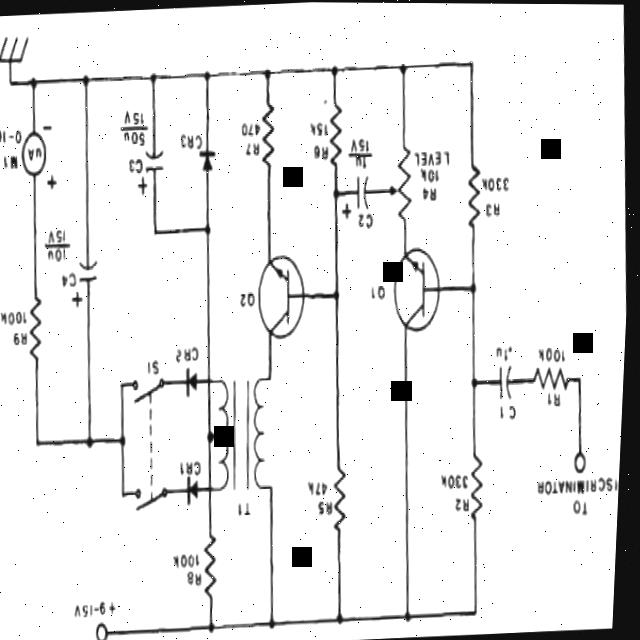capacitor: (73, 240, 111, 312), (495, 351, 526, 416), (349, 170, 384, 227), (141, 142, 176, 186)
diode: (195, 140, 223, 183), (184, 364, 208, 409), (187, 471, 207, 514)
ground: (0, 28, 34, 72)
inductor: (201, 365, 248, 504), (241, 364, 285, 505)
node: (120, 427, 135, 455), (147, 66, 163, 91), (79, 70, 93, 95), (212, 616, 226, 640), (27, 74, 42, 95), (333, 285, 347, 306), (407, 607, 420, 628), (399, 59, 411, 81), (472, 275, 481, 302), (89, 434, 101, 454), (203, 69, 215, 89), (331, 62, 342, 83), (204, 221, 216, 239), (334, 184, 344, 205), (273, 614, 283, 634), (264, 66, 275, 84), (341, 613, 352, 631), (473, 376, 483, 390)
resistor: (251, 95, 291, 184), (389, 138, 426, 224), (331, 456, 363, 550), (465, 451, 496, 536), (323, 99, 354, 174), (25, 287, 51, 374), (204, 525, 231, 608), (461, 158, 490, 233), (533, 354, 576, 402)
source: (14, 120, 63, 196)
switch: (113, 355, 181, 519)
transistor: (248, 237, 320, 348), (387, 236, 457, 343)
